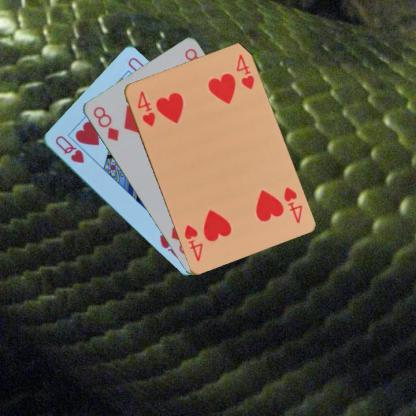4h: (134, 88, 157, 128), (280, 184, 303, 224)
8d: (90, 103, 120, 143)
Qh: (52, 133, 85, 165)
